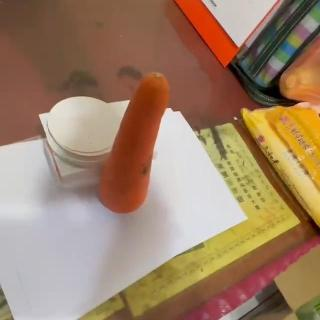carrot: (103, 71, 170, 212)
